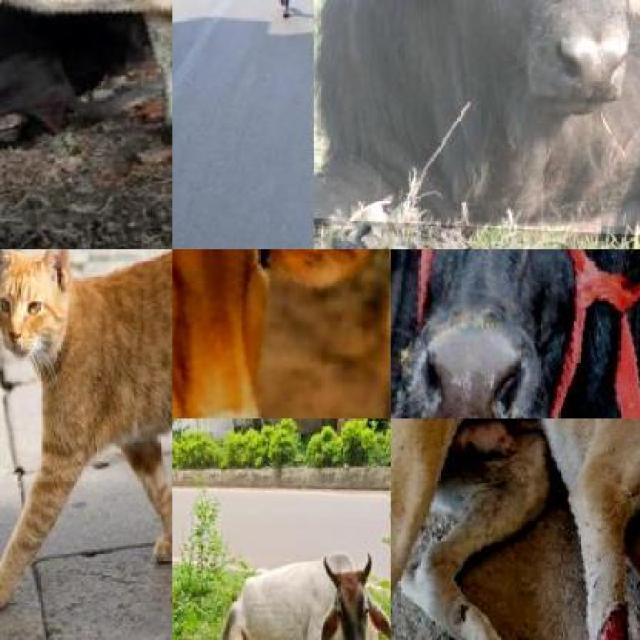buffalo: (314, 0, 640, 246), (391, 250, 640, 418)
cat: (0, 249, 172, 552)
cow: (0, 0, 172, 249), (172, 250, 391, 418), (218, 560, 391, 640)
dog: (391, 418, 640, 640)
injured: (577, 544, 640, 640)
